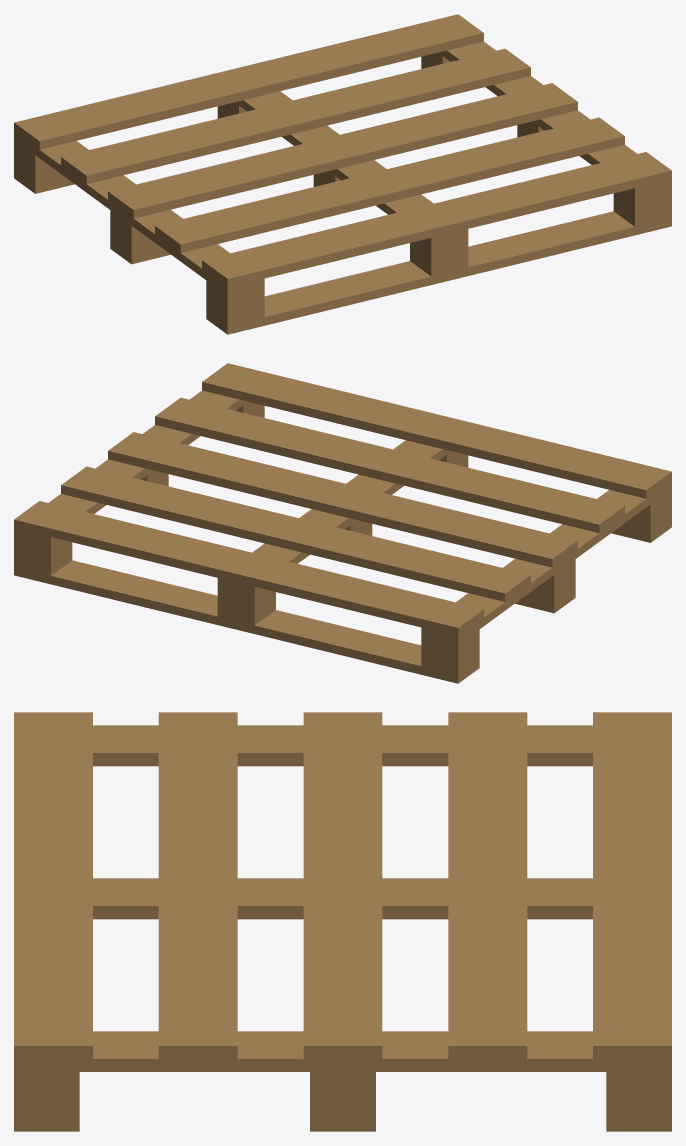
Rendered from PALLET.glb.
3 renders of one model, top to bottom at view 1: azimuth 30°, elevation 25°; view 2: azimuth 150°, elevation 25°; view 3: azimuth 270°, elevation 25°, orthographic. The views are drawn at different scales.
Parts seen in each view (by area): view 1: timber_0; view 2: timber_0; view 3: timber_0.
Boxes of the visible parts, x1=… form: timber_0: x1=14, y1=14, x2=671, y2=334; timber_0: x1=14, y1=363, x2=671, y2=683; timber_0: x1=14, y1=712, x2=671, y2=1131.
Bounding box in the file's own units: 1.2 × 0.144 × 1.
